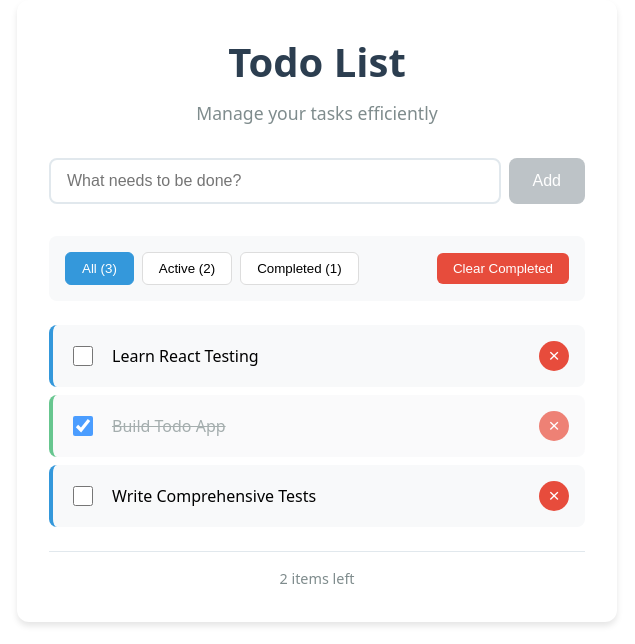
Test case: AddTodoForm Component › add button is disabled when input is empty
expect the button with test id "add-button" is disabled: met, box x1=508 y1=158 x2=585 y2=204
// Type something
Type "Test" into the field with test id "todo-input". click: (275, 181)
box: x1=49 y1=158 x2=500 y2=204
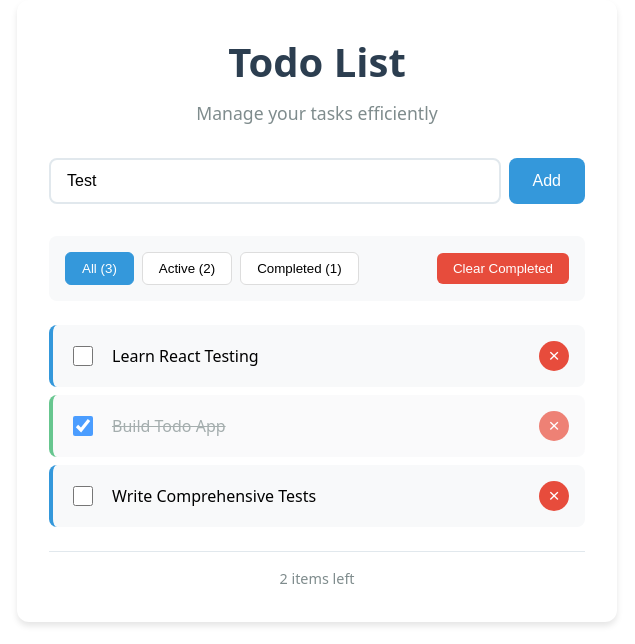
expect the button with test id "add-button" is enabled: met, box x1=508 y1=158 x2=585 y2=204
// Clear input
Clear the field with test id "todo-input". click: (275, 181)
box: x1=49 y1=158 x2=500 y2=204
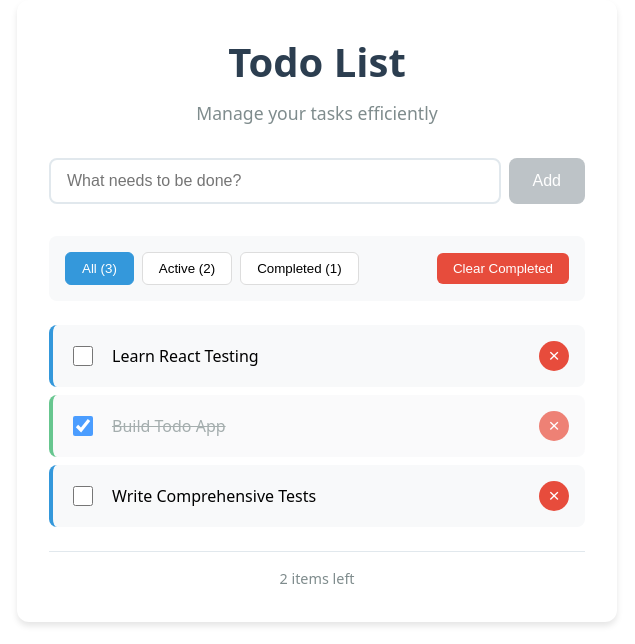
expect the button with test id "add-button" is disabled: met, box x1=508 y1=158 x2=585 y2=204
